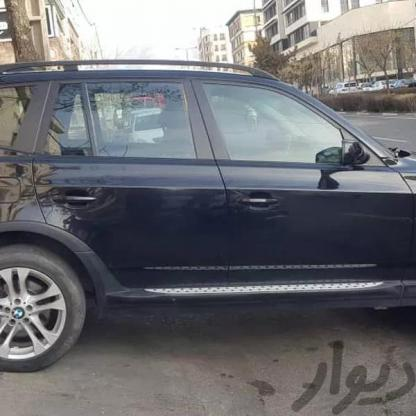Car: (0, 59, 416, 366), (126, 107, 168, 142), (369, 77, 394, 95), (331, 82, 357, 95), (355, 81, 371, 95)
